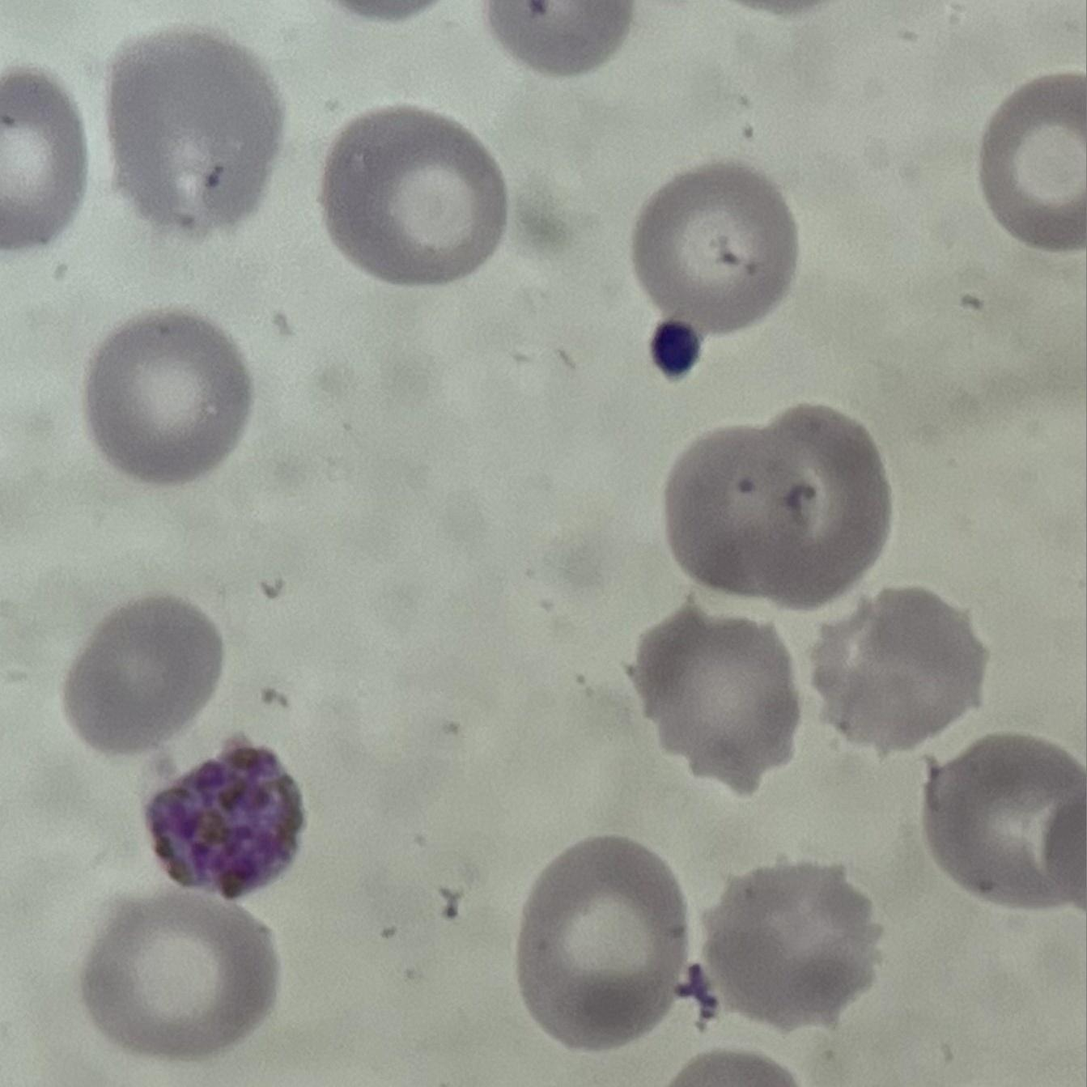Infected: (140, 731, 308, 904)
Uninfected: (515, 832, 684, 1048), (103, 31, 285, 231), (321, 106, 505, 293), (76, 886, 272, 1061), (920, 724, 1087, 922), (737, 395, 889, 606), (629, 157, 801, 343), (634, 608, 801, 793), (704, 870, 879, 1034), (89, 308, 247, 483), (815, 594, 981, 746), (65, 600, 224, 757), (664, 435, 805, 588), (979, 76, 1087, 248)
